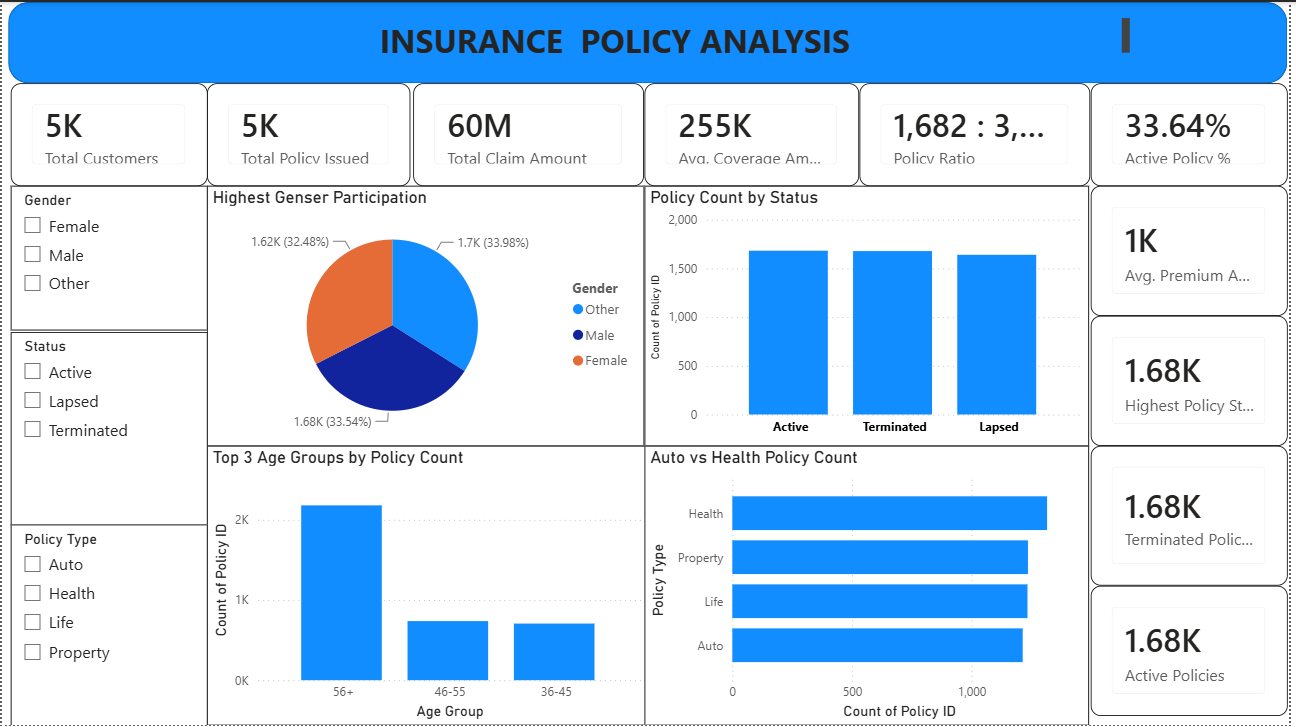

The dashboard page shown, as its layout file describes it:
{"tool":"powerbi","page":{"name":"Dashboard","canvas":[1280,720],"ordinal":1},"visuals":[{"type":"clusteredColumnChart","title":"Policy Count by Status","fields":{"Category":["Policy Details.Status"],"Y":["CountNonNull(Policy Details.Policy ID)"]},"box":[639.6,183,442,259.1],"z":0},{"type":"pieChart","title":"Highest Genser Participation","fields":{"Category":["Customer Information.Gender"],"Y":["CountNonNull(Policy Details.Policy ID)"]},"box":[204,183,435.6,259.1],"z":1000},{"type":"clusteredColumnChart","title":"Top 3 Age Groups by Policy Count","fields":{"Category":["Customer Information.Age Group"],"Y":["CountNonNull(Policy Details.Policy ID)"]},"box":[204,442,438.8,278.5],"z":2000},{"type":"clusteredBarChart","title":"Auto vs Health Policy Count","fields":{"Category":["Policy Details.Policy Type"],"Y":["CountNonNull(Policy Details.Policy ID)"]},"box":[639.6,442,442,278.5],"z":3000},{"type":"slicer","fields":{"Values":["Customer Information.Gender"]},"box":[8.1,183,195.9,144.1],"z":4000},{"type":"slicer","fields":{"Values":["Policy Details.Status"]},"box":[8.1,328.7,195.9,192.7],"z":5000},{"type":"slicer","fields":{"Values":["Policy Details.Policy Type"]},"box":[8.1,519.8,195.9,200.8],"z":6000},{"type":"cardVisual","fields":{"Data":["Customer Information.Total Customers"]},"box":[8.1,81,195.9,102],"z":7000},{"type":"cardVisual","fields":{"Data":["Policy Details.Total Policy Issued"]},"box":[204,81,202.4,102],"z":8000},{"type":"cardVisual","fields":{"Data":["Claims.Total Claim Amount"]},"box":[409.7,81,229.9,102],"z":9000},{"type":"cardVisual","fields":{"Data":["Policy Details.Avg. Coverage Amount"]},"box":[639.6,81,213.7,102],"z":10000},{"type":"cardVisual","fields":{"Data":["Policy Details.Avg. Premium Amount"]},"box":[1083.3,183,195.9,129.5],"z":11000},{"type":"cardVisual","fields":{"Data":["Policy Details.Active Policy %"]},"box":[1083.3,81,195.9,102],"z":12000},{"type":"cardVisual","fields":{"Data":["Policy Details.Highest Policy Status"]},"box":[1083.3,312.5,195.9,129.5],"z":13000},{"type":"cardVisual","fields":{"Data":["Claims.Policy Ratio"]},"box":[853.3,81,229.9,102],"z":14000},{"type":"cardVisual","fields":{"Data":["Policy Details.Terminated Policies"]},"box":[1083.3,442,195.9,139.3],"z":15000},{"type":"cardVisual","fields":{"Data":["Claims.Active Policies"]},"box":[1083.3,581.3,195.9,129.5],"z":16000},{"type":"shape","title":"INSURANCE ANALYSIS","box":[6.5,0,1272.7,81],"z":17000},{"type":"textbox","box":[100.4,11.3,1026.6,48.6],"z":17001}]}

Visuals, with their boxes in screenshot pixels (x1, y1, x2, y2), scaled from the page's 1280x720 canvas onto the 1296x727 screenshot:
"Policy Count by Status" clusteredColumnChart: [648,185,1095,446]
"Highest Genser Participation" pieChart: [207,185,648,446]
"Top 3 Age Groups by Policy Count" clusteredColumnChart: [207,446,651,726]
"Auto vs Health Policy Count" clusteredBarChart: [648,446,1095,726]
slicer - Customer Information.Gender: [8,185,207,330]
slicer - Policy Details.Status: [8,332,207,526]
slicer - Policy Details.Policy Type: [8,525,207,726]
cardVisual - Customer Information.Total Customers: [8,82,207,185]
cardVisual - Policy Details.Total Policy Issued: [207,82,411,185]
cardVisual - Claims.Total Claim Amount: [415,82,648,185]
cardVisual - Policy Details.Avg. Coverage Amount: [648,82,864,185]
cardVisual - Policy Details.Avg. Premium Amount: [1097,185,1295,316]
cardVisual - Policy Details.Active Policy %: [1097,82,1295,185]
cardVisual - Policy Details.Highest Policy Status: [1097,316,1295,446]
cardVisual - Claims.Policy Ratio: [864,82,1097,185]
cardVisual - Policy Details.Terminated Policies: [1097,446,1295,587]
cardVisual - Claims.Active Policies: [1097,587,1295,718]
"INSURANCE ANALYSIS" shape: [7,0,1295,82]
textbox: [102,11,1141,60]
